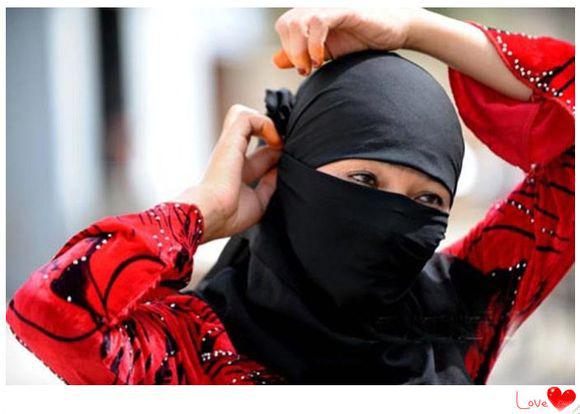OK: (302, 147, 451, 300)
